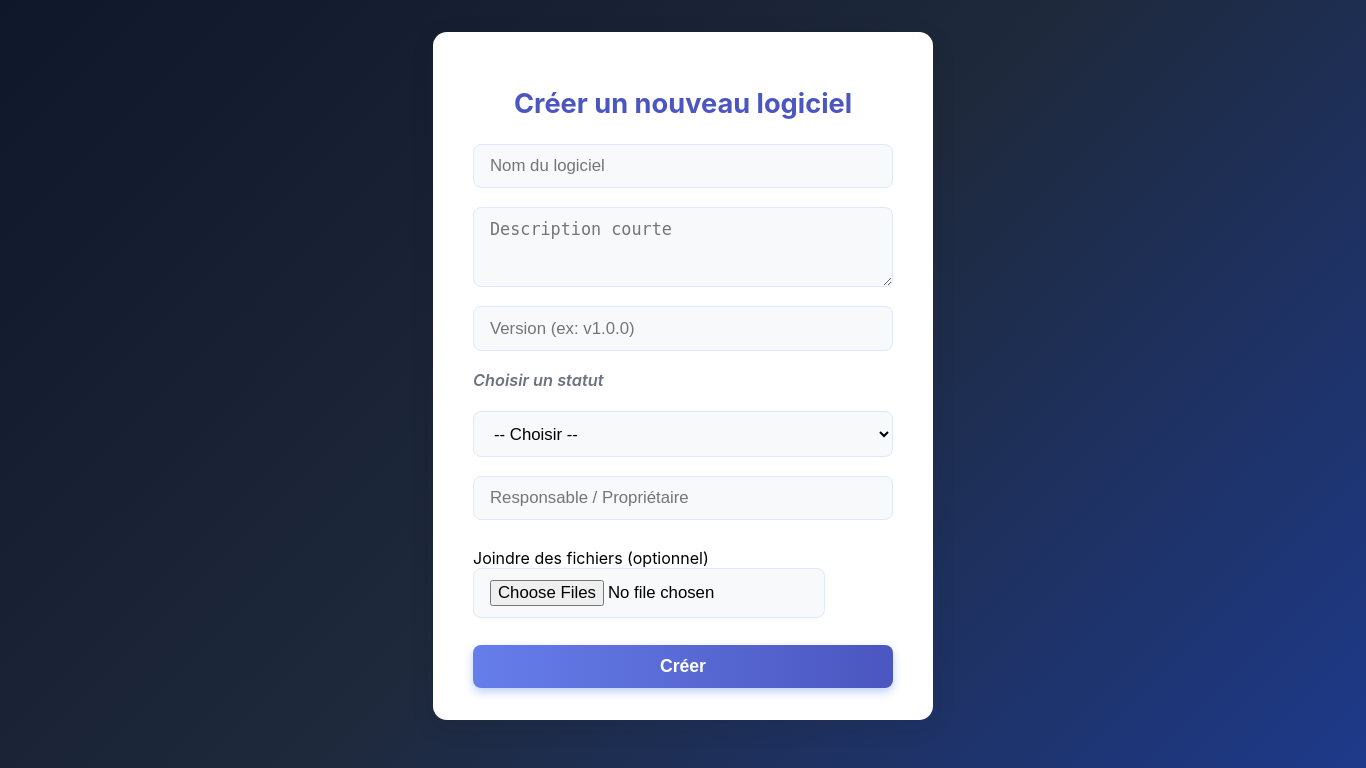
Test: NewBuild component unit › handles server json throwing (non-json error) gracefully
Note: fill required fields so form submits
In the field with placeholder "Nom du logiciel": (683, 166) [473, 144, 893, 188], type "X"
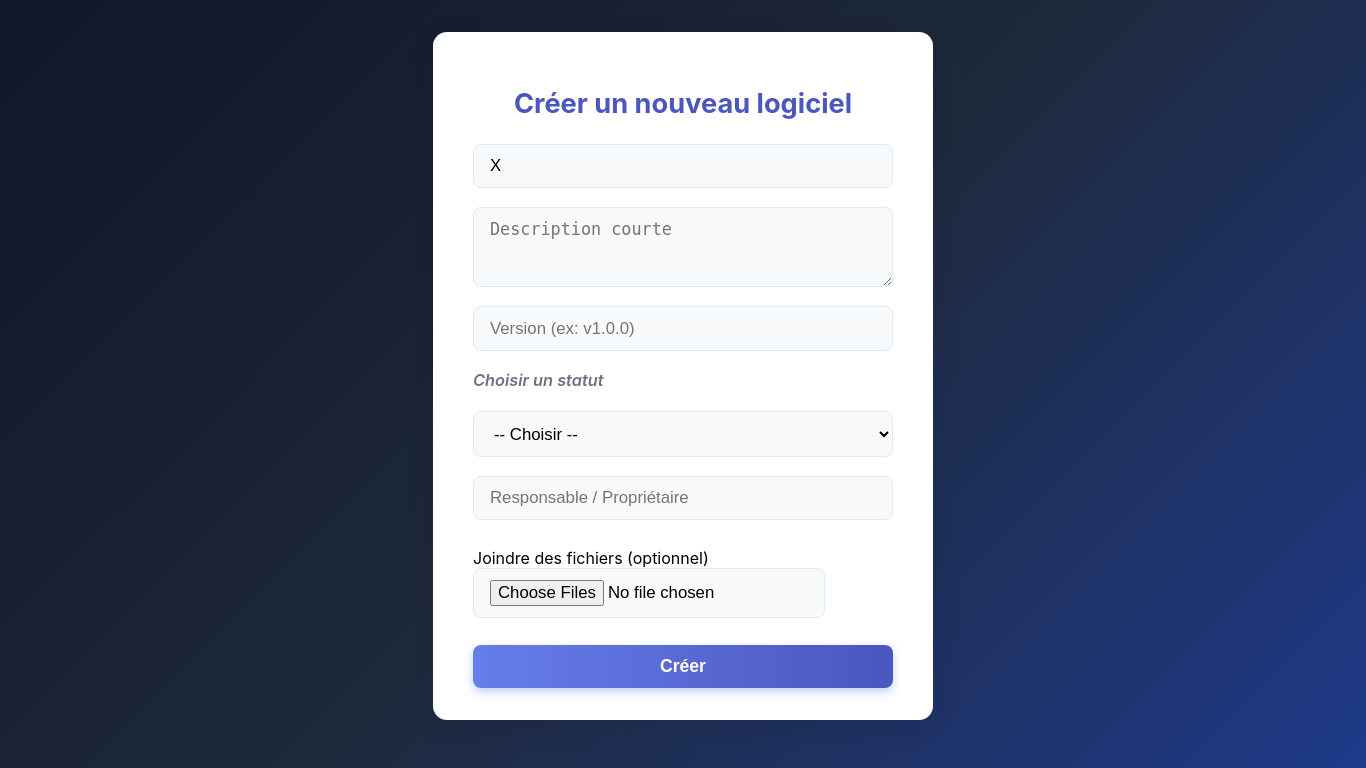
In the text box with placeholder "Description courte": (683, 247) [473, 207, 893, 287], type "desc"
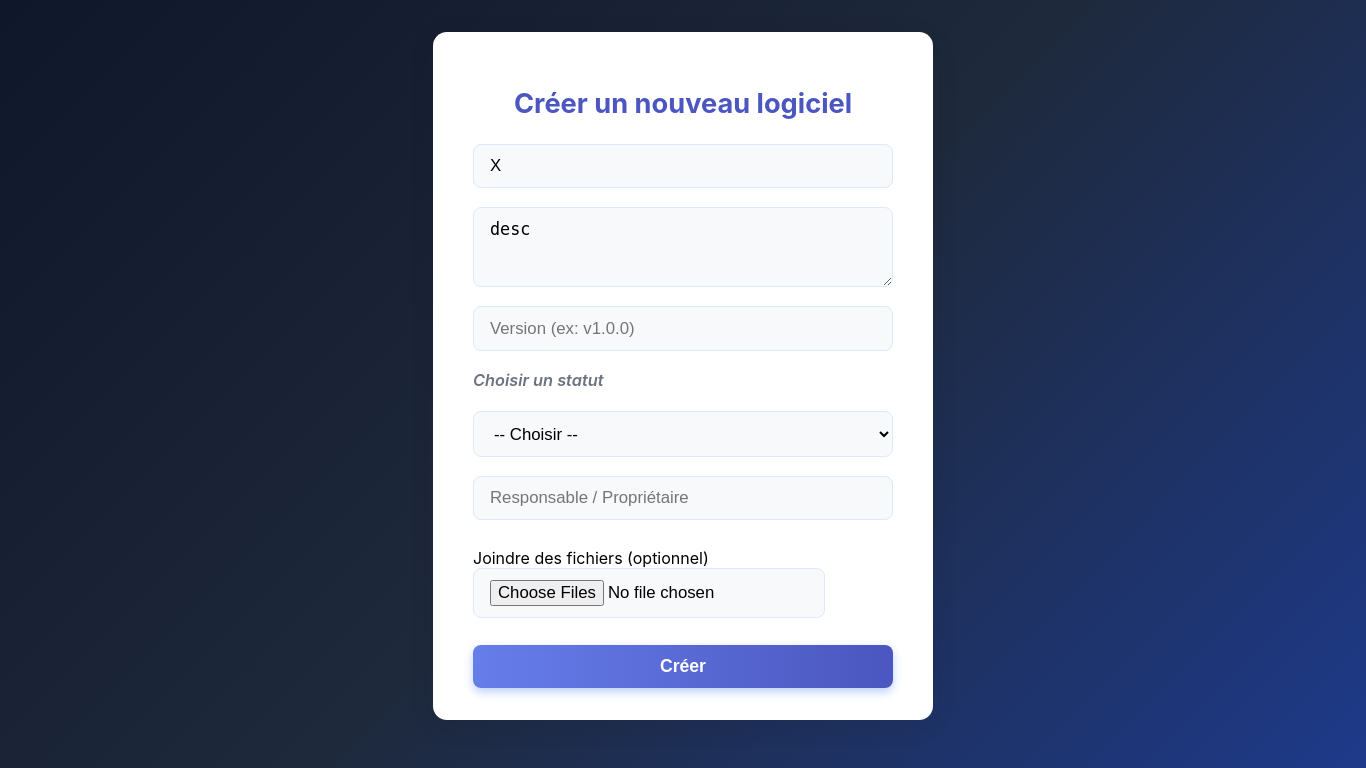
In the field with placeholder "Responsable / Propriétaire": (683, 498) [473, 476, 893, 520], type "me"
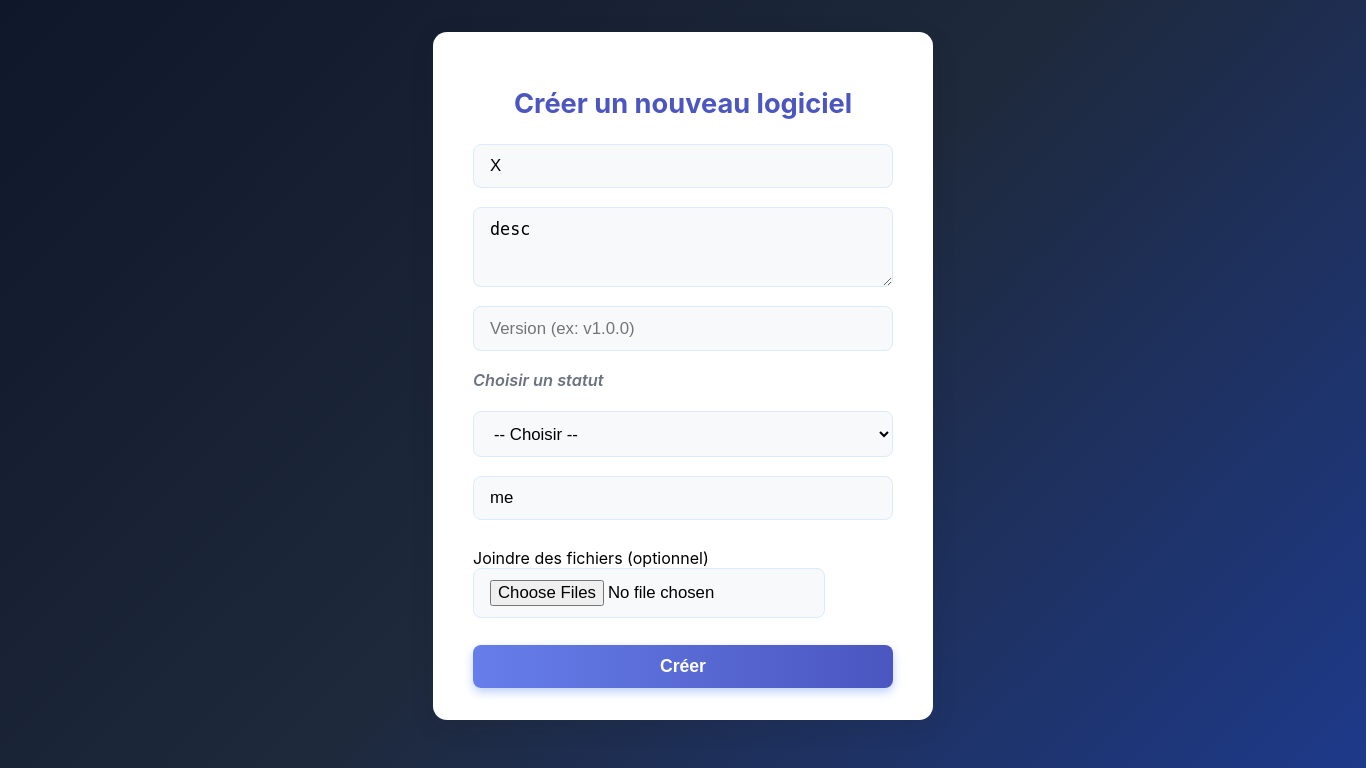
Click the button "Créer": (683, 667) [473, 645, 893, 688]
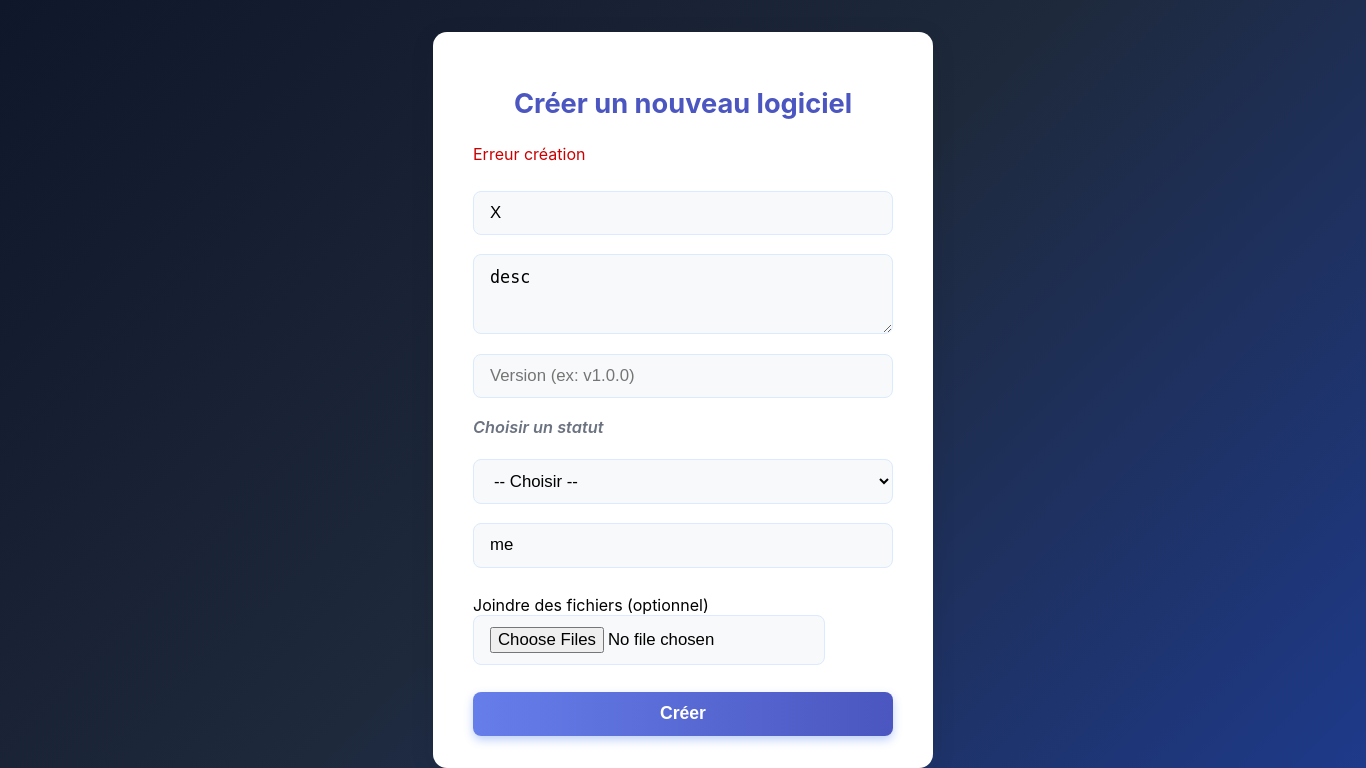
Expected: the text "Erreur création" is shown, [473, 144, 586, 164]
